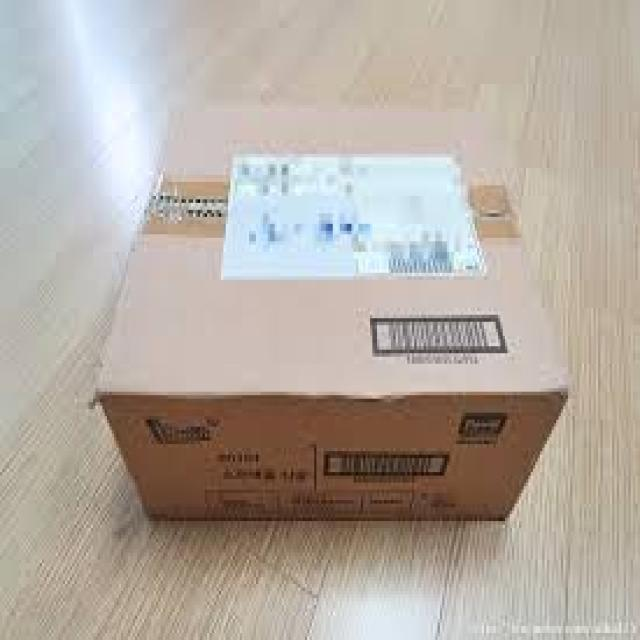box: (92, 105, 569, 524)
